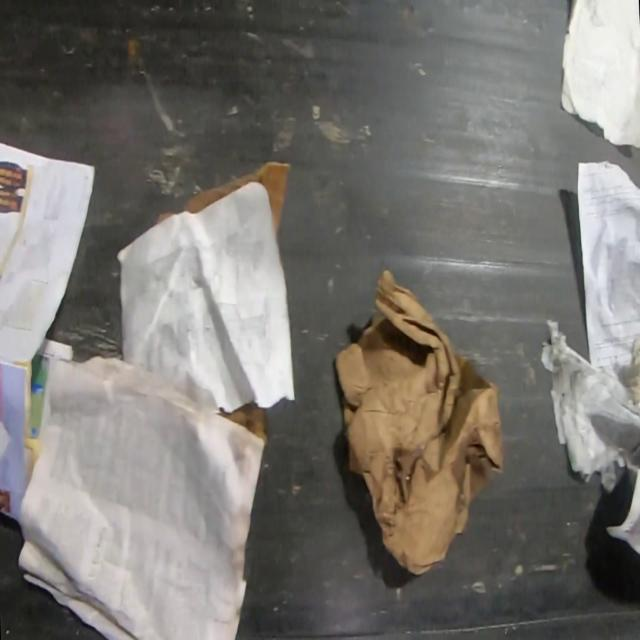cardboard: (334, 266, 506, 577), (188, 160, 289, 243), (218, 400, 268, 441)
